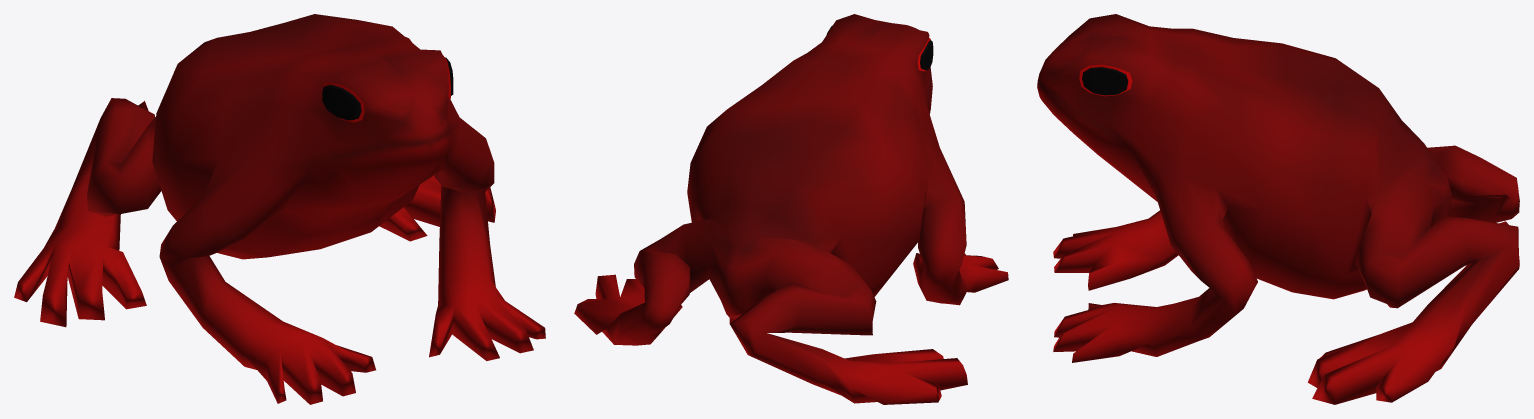
The model's file is Amphibians_Toad.fbx.
The picture shows the model from 3 angles, left to right: view 1: azimuth 30°, elevation 25°; view 2: azimuth 150°, elevation 25°; view 3: azimuth 270°, elevation 25°; orthographic projection. The views are drawn at different scales.
Visible parts, largest first — view 1: Toad; view 2: Toad; view 3: Toad.
Boxes of the visible parts, x1,y1,x2,y2 form: Toad: (14, 14, 545, 404); Toad: (574, 14, 1008, 404); Toad: (1037, 14, 1519, 404).
Bounding box in the file's own units: 104 × 63.73 × 104.
